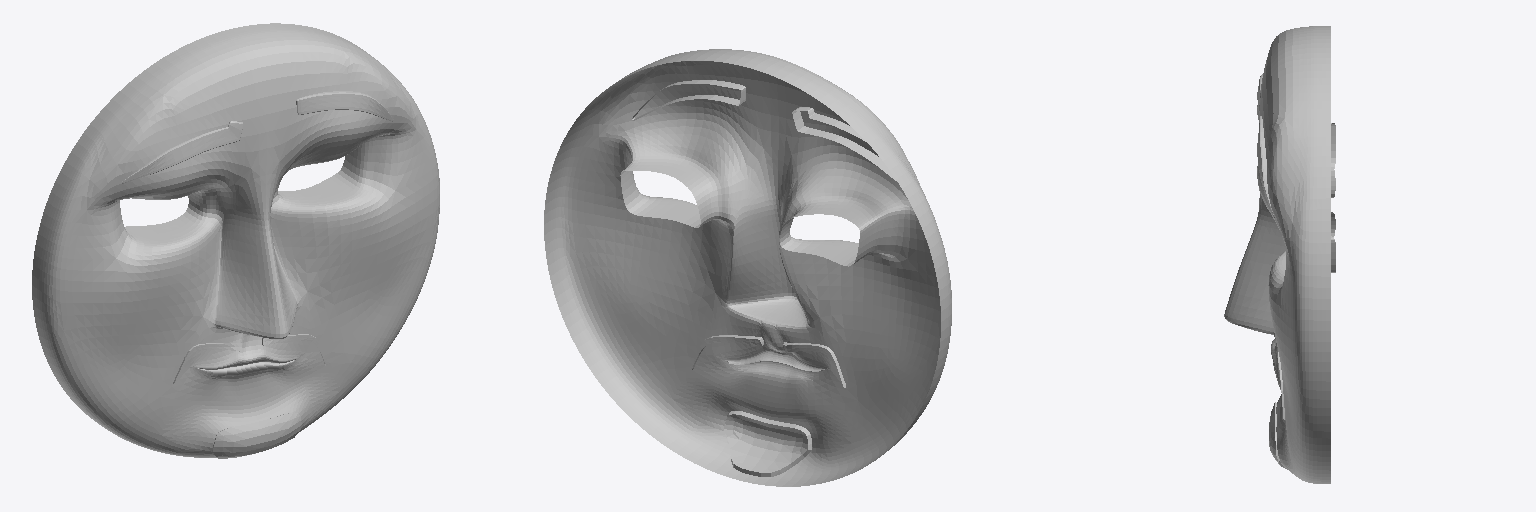
Rendered from Content.obj.
The picture shows the model from 3 angles: view 1: azimuth 30°, elevation 25°; view 2: azimuth 150°, elevation 25°; view 3: azimuth 270°, elevation 25°; orthographic projection.
Parts seen in each view (by area): view 1: Circle.025_Circle.044; view 2: Circle.025_Circle.044; view 3: Circle.025_Circle.044.
Boxes of the visible parts, x1=… form: Circle.025_Circle.044: x1=32, y1=23, x2=439, y2=458; Circle.025_Circle.044: x1=544, y1=49, x2=951, y2=486; Circle.025_Circle.044: x1=1224, y1=26, x2=1335, y2=483.
Size of the model in its own units: 50.64 by 50.76 by 12.29.